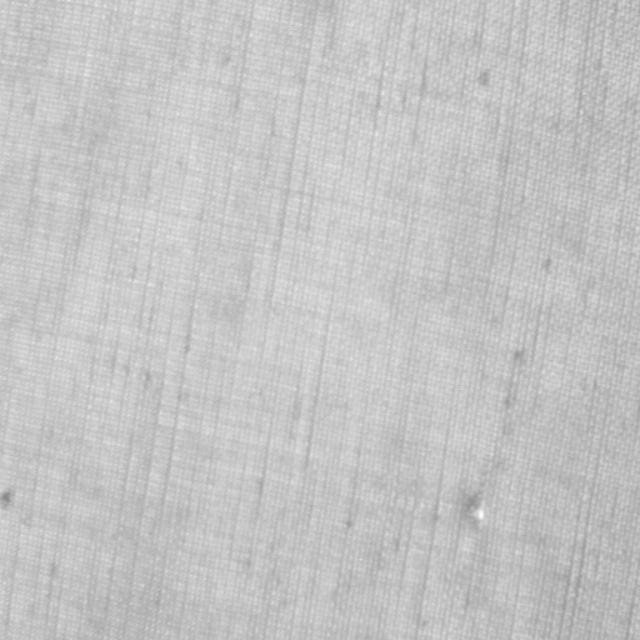hole: (462, 488, 492, 532)
